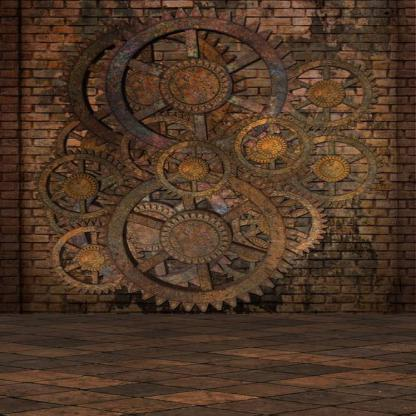FOD: (101, 170, 293, 312)
